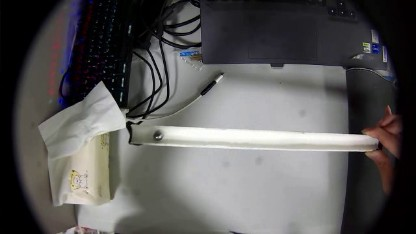gangzhu: (152, 128, 161, 140)
